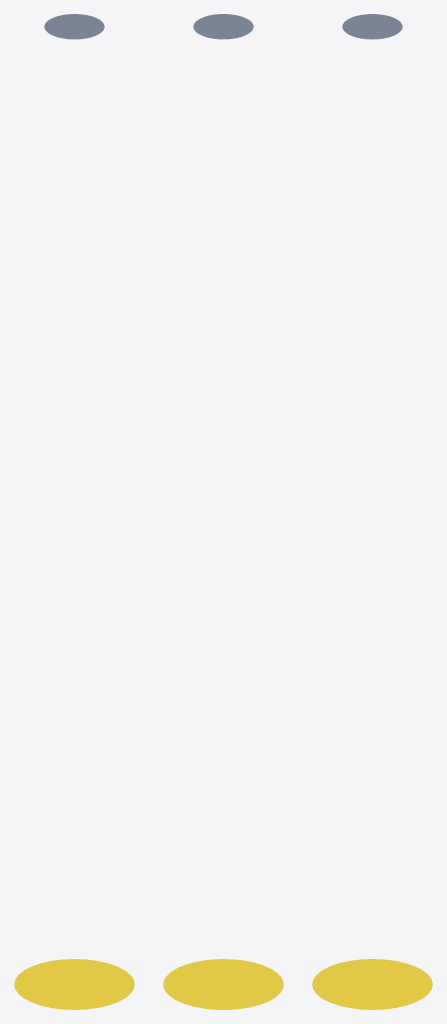
Rendered from SunAndMoon.gltf.
3 views of the same model, side by side, from view 1: azimuth 90°, elevation 25°; view 2: azimuth 150°, elevation 25°; view 3: azimuth 270°, elevation 25° (orthographic).
Visible parts, largest first — view 1: Circle; view 2: Circle; view 3: Circle.
Part boxes in pixels (x1,y1,x2,y2): Circle: [14, 14, 134, 1009]; Circle: [163, 14, 283, 1009]; Circle: [312, 14, 432, 1009].
Size of the model in its own units: 4 by 35 by 4.
Materials: 1 (1 with a texture image).
